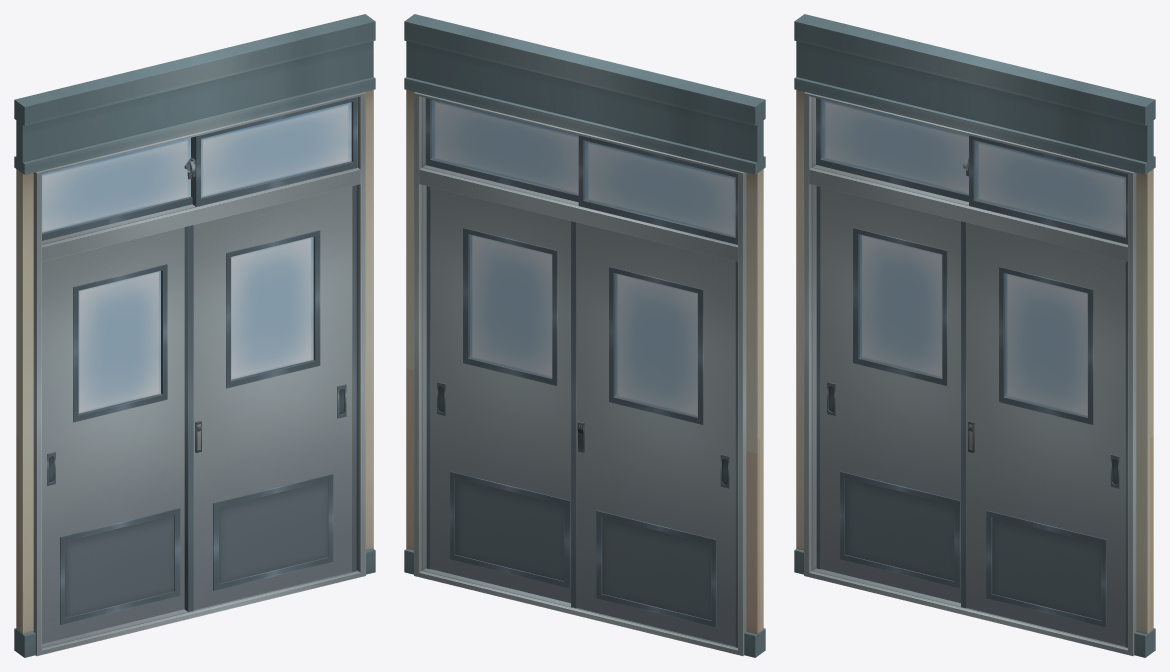
Rendered from SHW_Door_01_01.fbx.
3 views of the same model, side by side, from view 1: azimuth 30°, elevation 25°; view 2: azimuth 150°, elevation 25°; view 3: azimuth 330°, elevation 25° (orthographic).
Visible parts, largest first — view 1: door01_R, door01_L, wall01, glass_01 (×4), door_01, window01_02, window01_01; view 2: door01_L, door01_R, wall01, glass_02 (×4), door_01, window01_01, window01_02; view 3: door01_R, door01_L, wall01, glass_01 (×4), door_01, window01_02, window01_01.
Part boxes in pixels (bbox=[...]): door01_R: bbox=[184, 185, 356, 611]; door01_L: bbox=[42, 227, 184, 643]; wall01: bbox=[14, 14, 375, 657]; glass_01 (×4): bbox=[42, 102, 351, 413]; door_01: bbox=[33, 92, 365, 655]; window01_02: bbox=[191, 97, 357, 206]; window01_01: bbox=[42, 137, 192, 240]; door01_L: bbox=[571, 221, 737, 647]; door01_R: bbox=[426, 186, 570, 603]; wall01: bbox=[404, 14, 765, 657]; glass_02 (×4): bbox=[432, 99, 735, 416]; door_01: bbox=[414, 92, 746, 655]; window01_01: bbox=[578, 135, 737, 244]; window01_02: bbox=[425, 98, 578, 202]; door01_R: bbox=[961, 221, 1127, 647]; door01_L: bbox=[816, 186, 960, 603]; wall01: bbox=[794, 14, 1155, 657]; glass_01 (×4): bbox=[822, 99, 1125, 416]; door_01: bbox=[804, 92, 1136, 655]; window01_02: bbox=[967, 135, 1127, 244]; window01_01: bbox=[816, 98, 968, 201].
Bounding box in the file's own units: 200 × 300 × 12.59.
